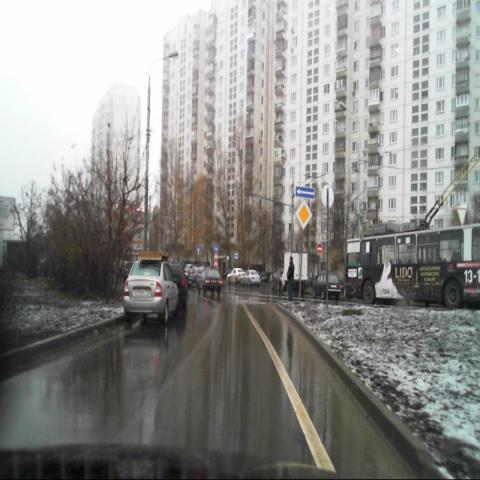5_7_2: (296, 186, 314, 199)
